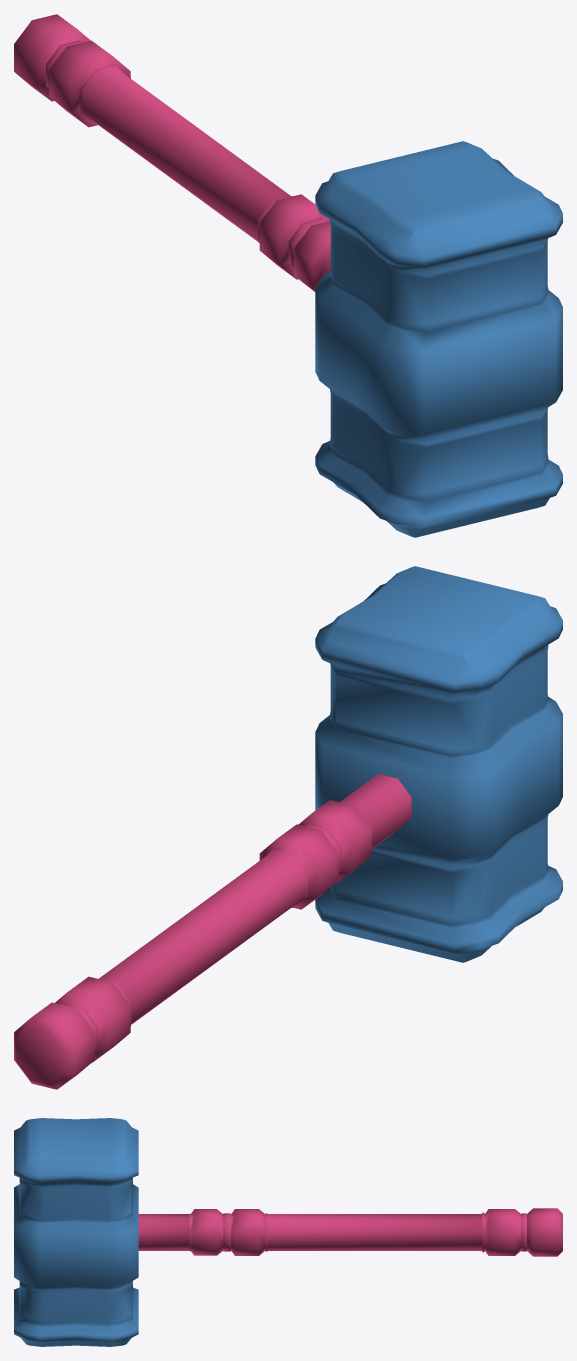
Rendered from Mallet.fbx.
3 views of the same model, one above another, from view 1: azimuth 30°, elevation 25°; view 2: azimuth 150°, elevation 25°; view 3: azimuth 270°, elevation 25° (orthographic). The views are drawn at different scales.
Parts seen in each view (by area): view 1: Mallet, Handle; view 2: Mallet, Handle; view 3: Mallet, Handle.
Part boxes in pixels (x1,y1,x2,y2): Mallet: (315, 141, 562, 537); Handle: (14, 14, 330, 291); Mallet: (315, 566, 562, 962); Handle: (14, 774, 411, 1089); Mallet: (14, 1118, 138, 1346); Handle: (138, 1208, 562, 1256).
Bounding box in the file's own units: 283 × 470 × 1234.
